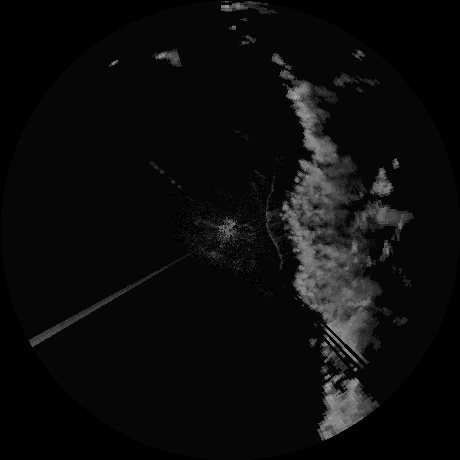frontgust: (265, 182, 285, 275)
